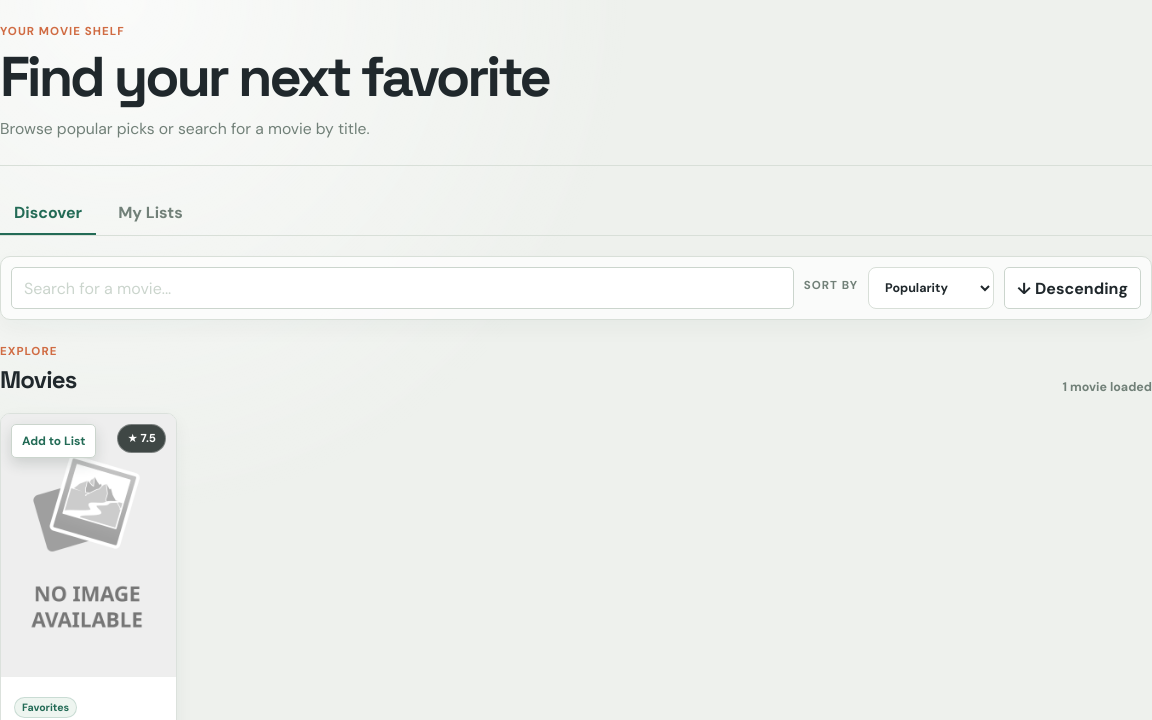
Test: MovieApp › opens the share preview and lets users choose a list
Click the button "My Lists" at [150, 214], box [104,192,197,235]
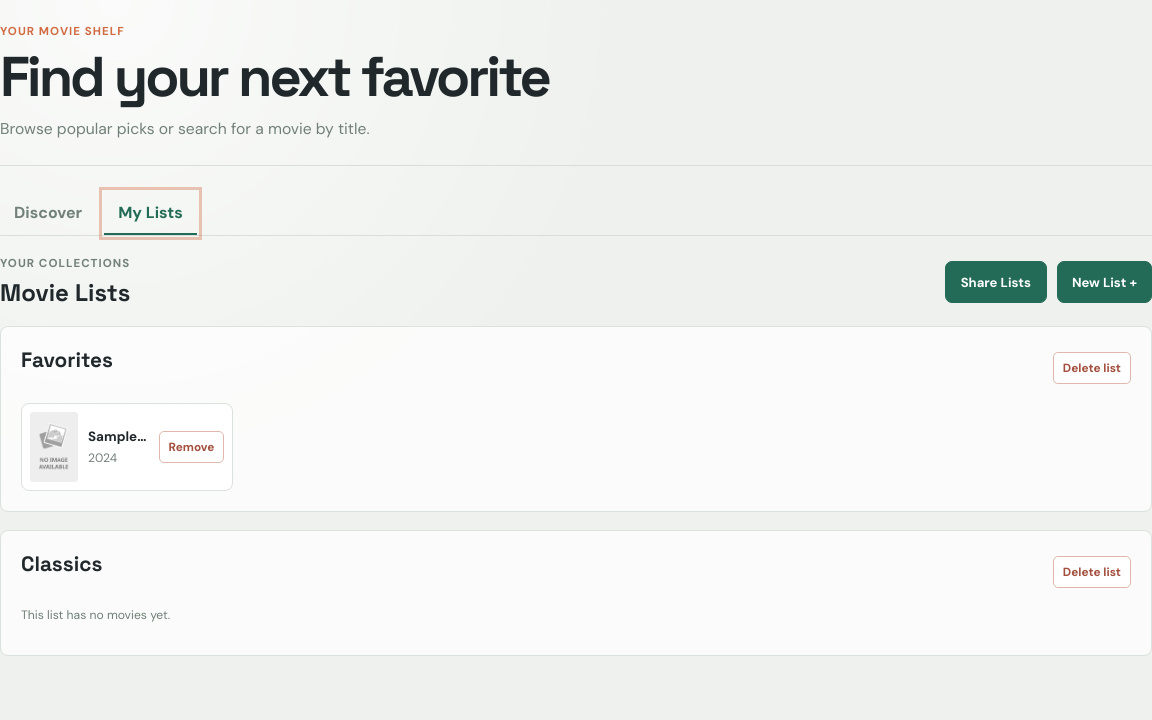
Click the button "Share Lists" at [996, 282], box [945,261,1047,303]
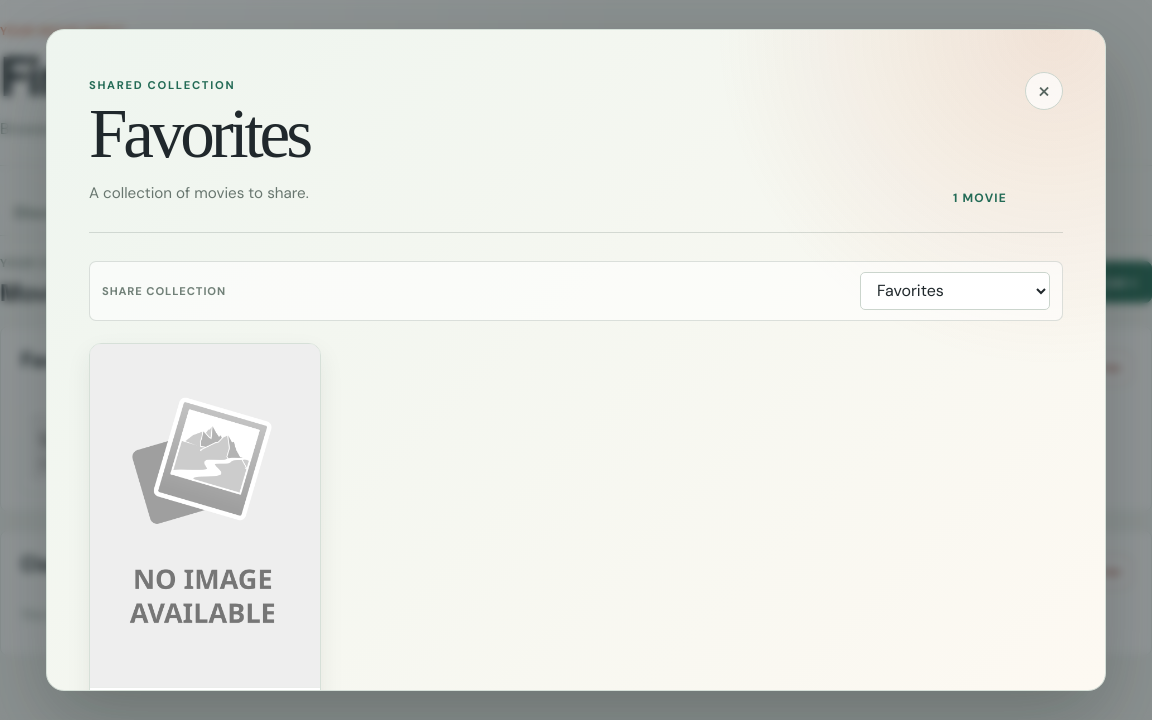
Now the text "Sample Movie" is shown 2 times
Now the text "Shared collection" is shown, box [89,78,235,92]
Select "Classics" in the dropdown labelled "Share collection" at [955, 291], box [860,272,1050,310]
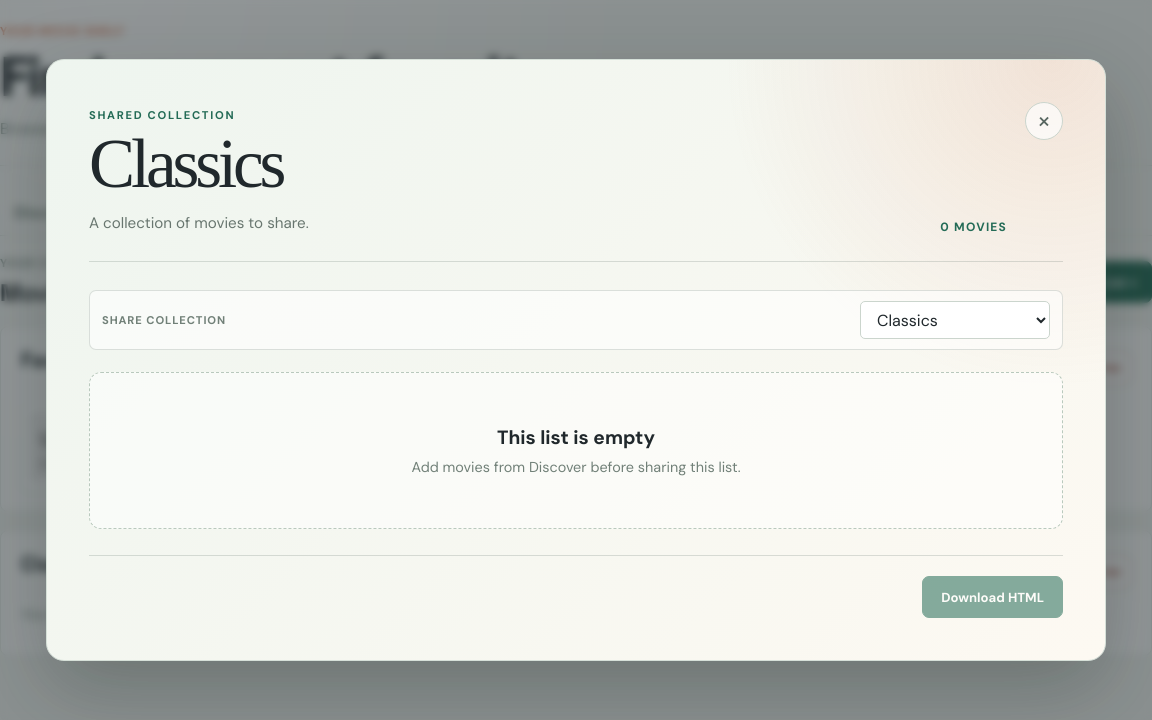
Now the heading "This list is empty" is shown, box [497,426,655,450]
